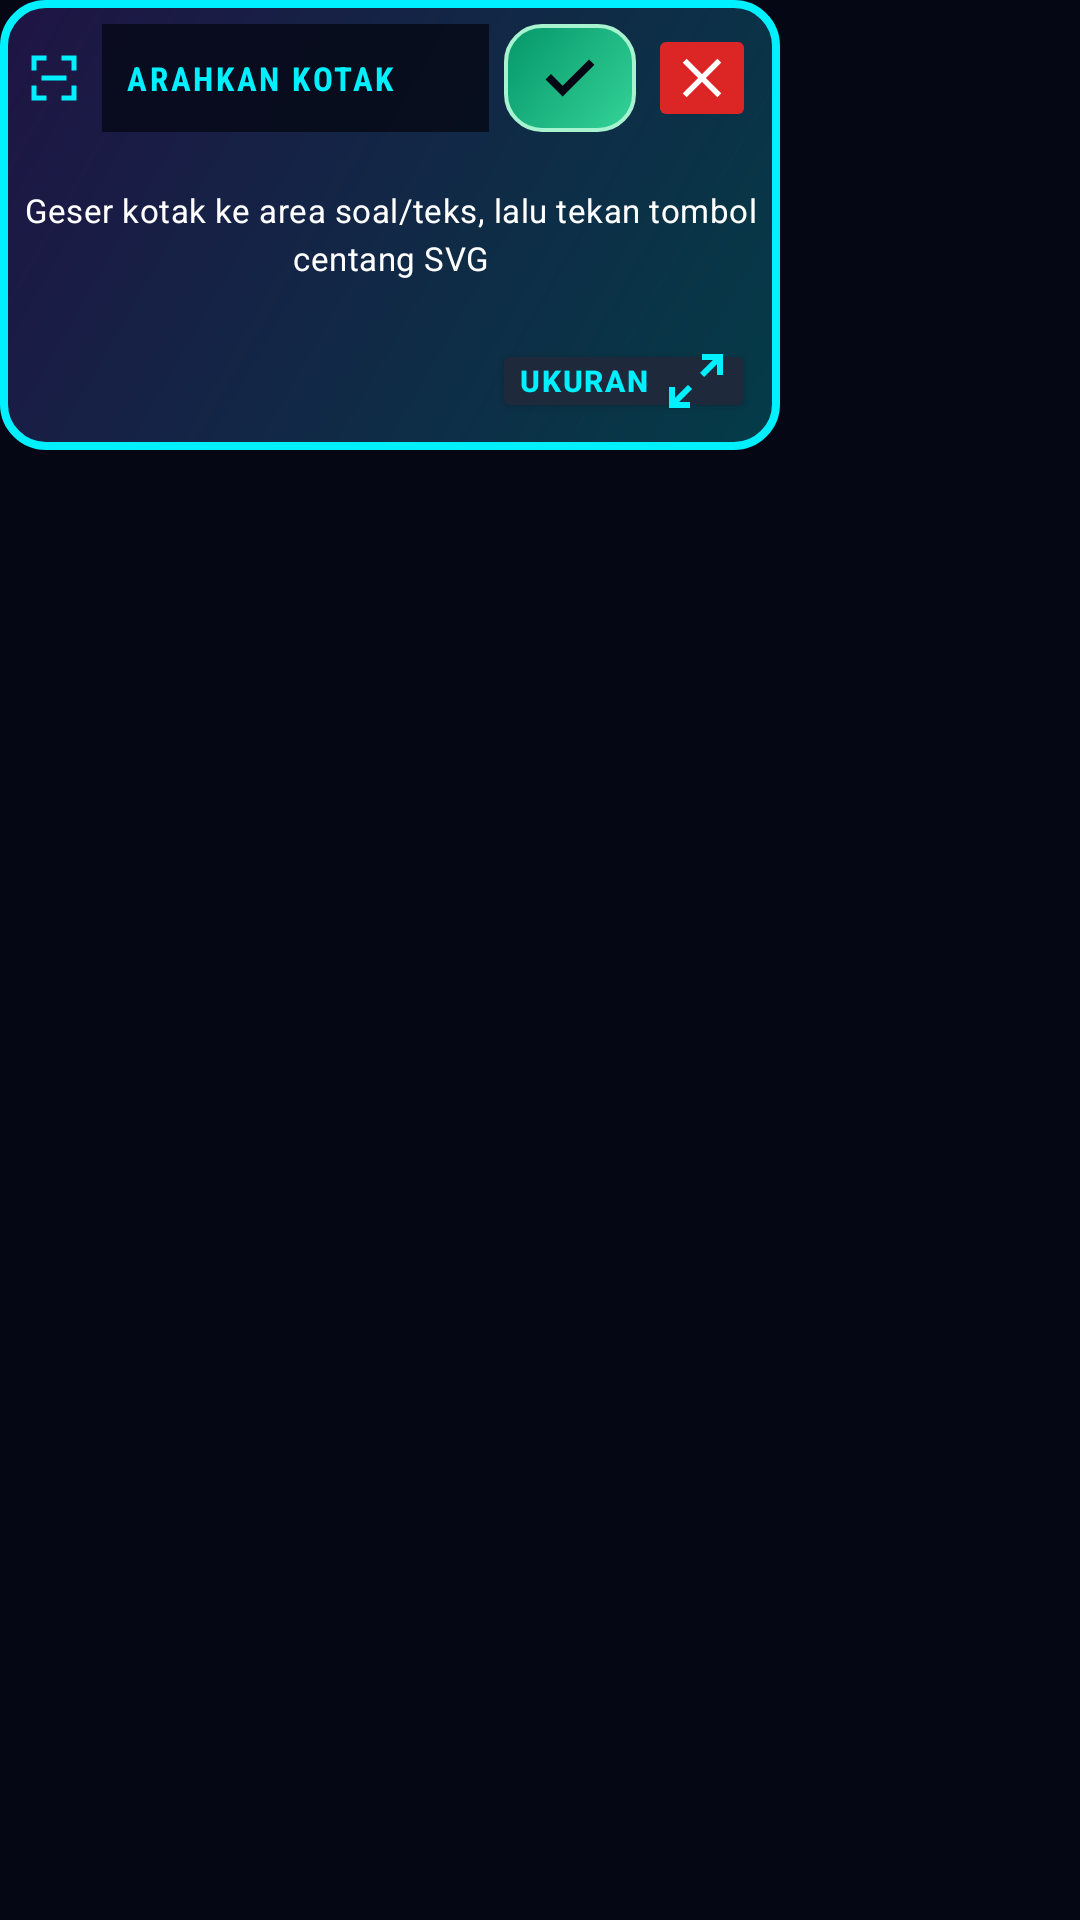

Where to tap for icons on this 1080 x 1920 app screen, as point (x, y):
Centang ke Google AI: point (570, 78)
Scan SVG: point (54, 78)
Tutup Kotak: point (702, 78)
